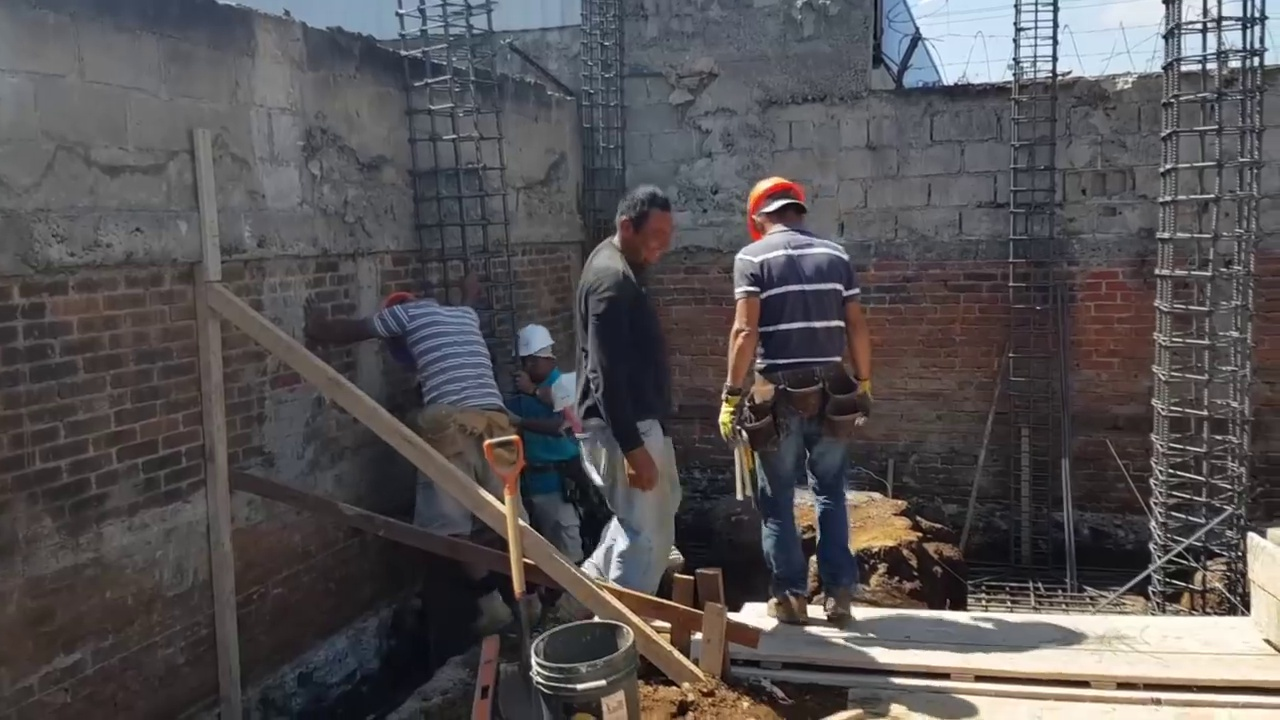helmet: (748, 178, 805, 237), (516, 324, 555, 357)
helmet-off: (610, 182, 674, 276)
helmet-on: (741, 177, 809, 243), (510, 328, 558, 382)
person: (722, 182, 881, 624), (362, 289, 523, 637), (586, 180, 689, 620), (507, 325, 598, 566)
